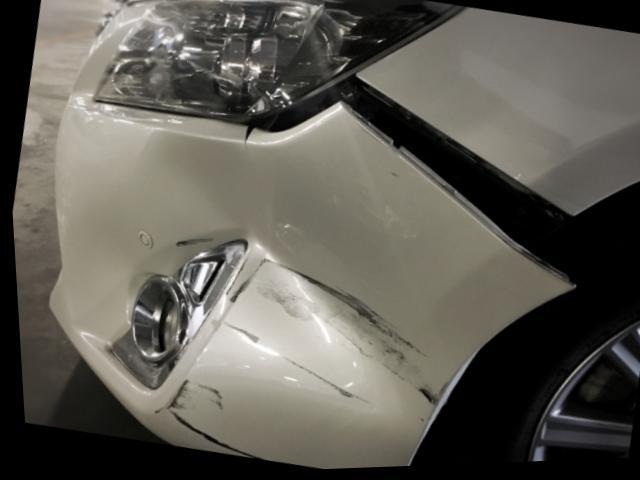crack: (241, 126, 253, 156)
dislocated part: (247, 75, 569, 297)
scratch: (219, 255, 443, 413), (154, 375, 279, 465), (211, 317, 337, 399), (172, 241, 209, 247)
